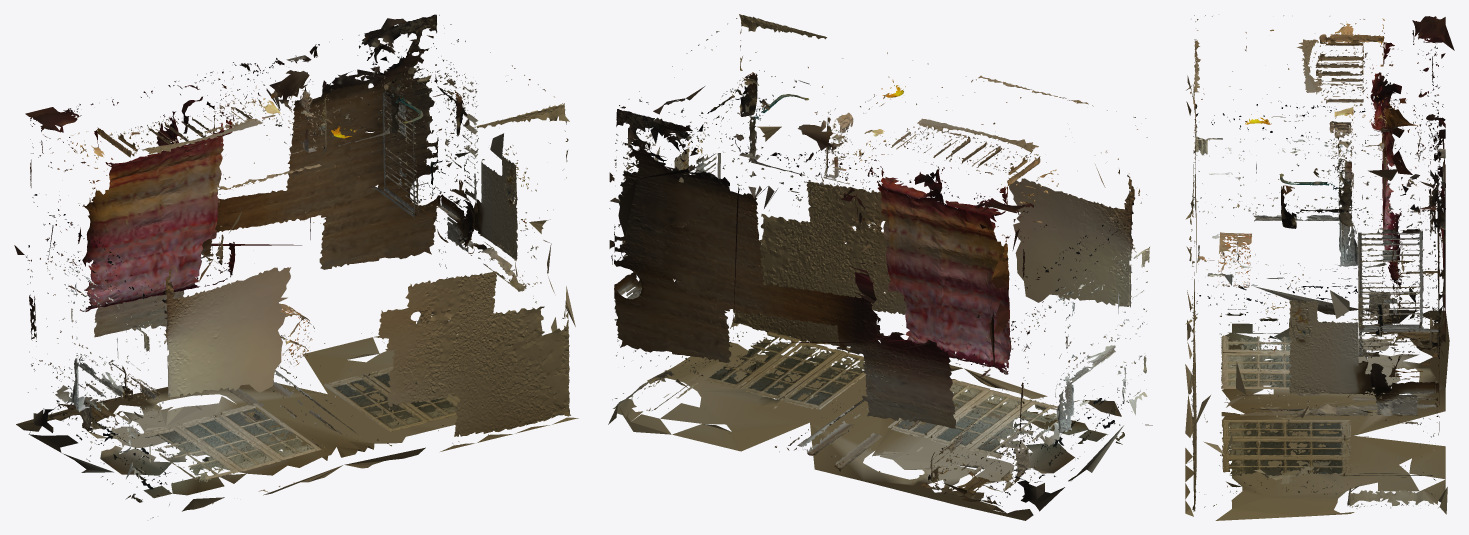
File: iscv2_iscv2_Material_u1_v1.obj
The picture shows the model from 3 angles, left to right: view 1: azimuth 30°, elevation 25°; view 2: azimuth 150°, elevation 25°; view 3: azimuth 270°, elevation 25°; orthographic projection. The views are drawn at different scales.
Bounding box in the file's own units: 85.85 × 62.86 × 47.83.
